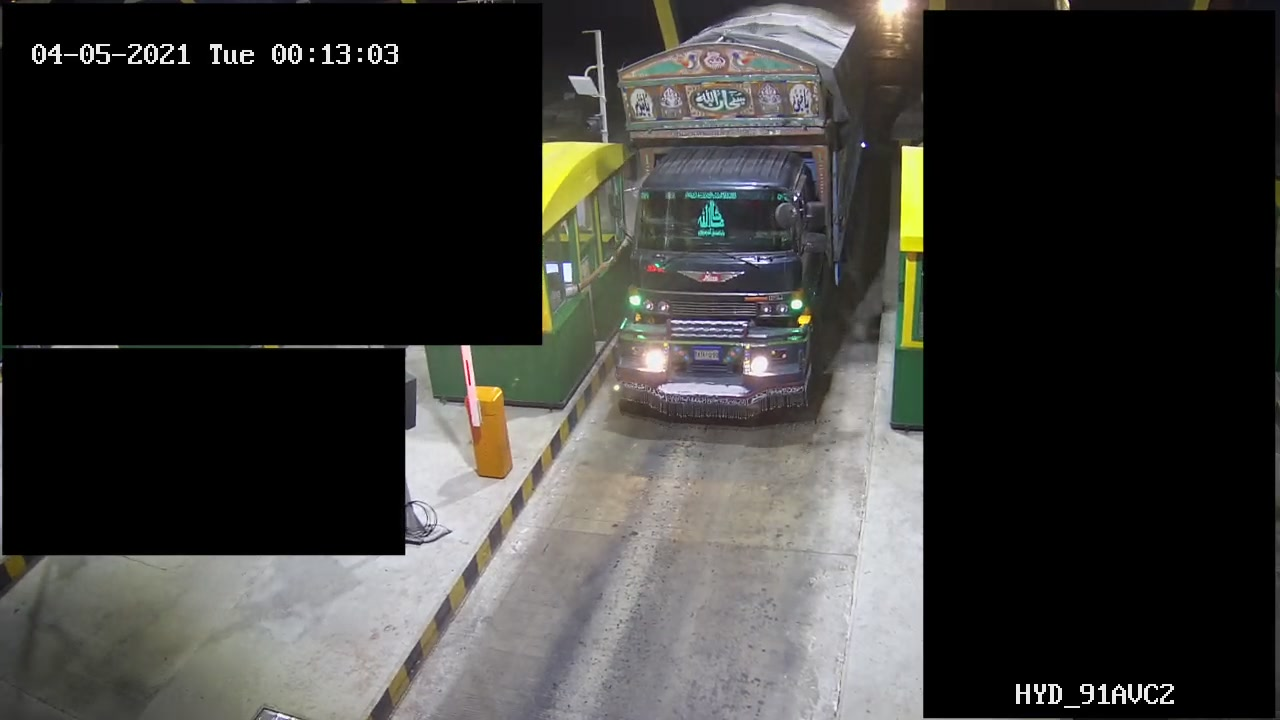F5: (606, 1, 875, 421)
